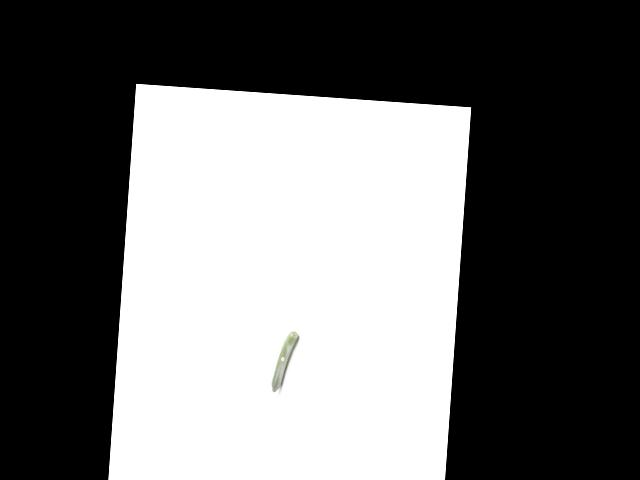cucumber: (271, 329, 298, 393)
